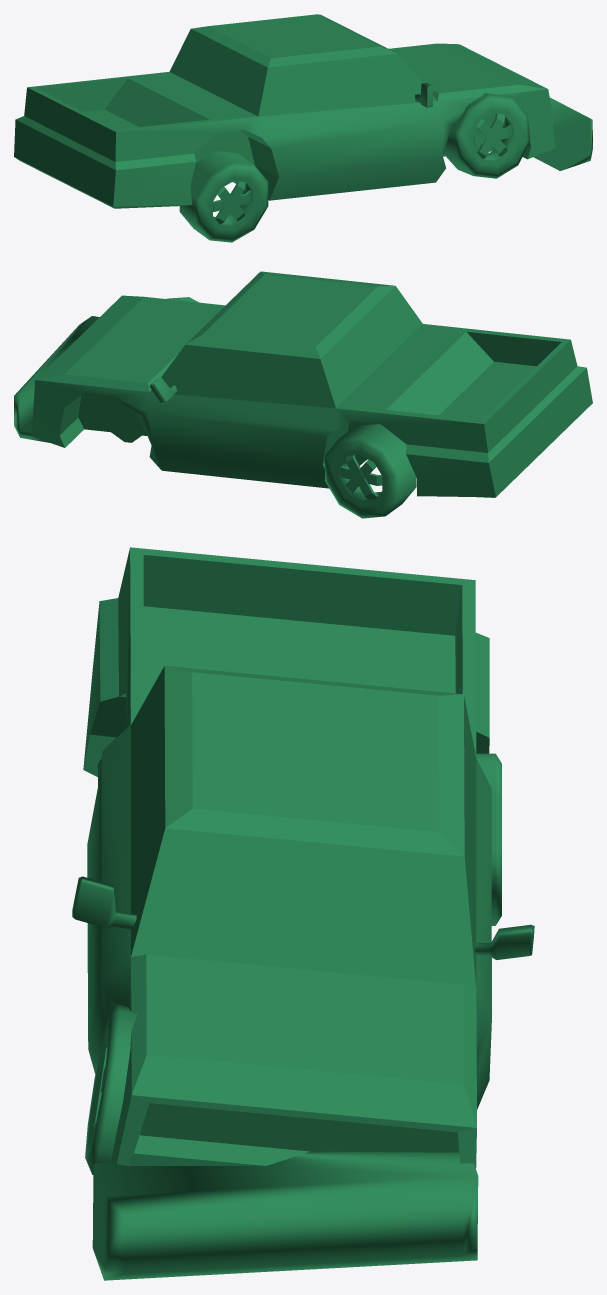
The model's file is broken_pickup_3wheel.fbx.
3 views of the same model, one above another, from view 1: azimuth 30°, elevation 25°; view 2: azimuth 150°, elevation 25°; view 3: azimuth 270°, elevation 25° (orthographic). The views are drawn at different scales.
Visible parts, largest first — view 1: polySurface85; view 2: polySurface85; view 3: polySurface85.
Boxes of the visible parts, x1,y1,x2,y2 form: polySurface85: [14, 14, 592, 242]; polySurface85: [14, 271, 592, 518]; polySurface85: [72, 547, 534, 1280].
Bounding box in the file's own units: 5.92 × 1.86 × 2.42.
